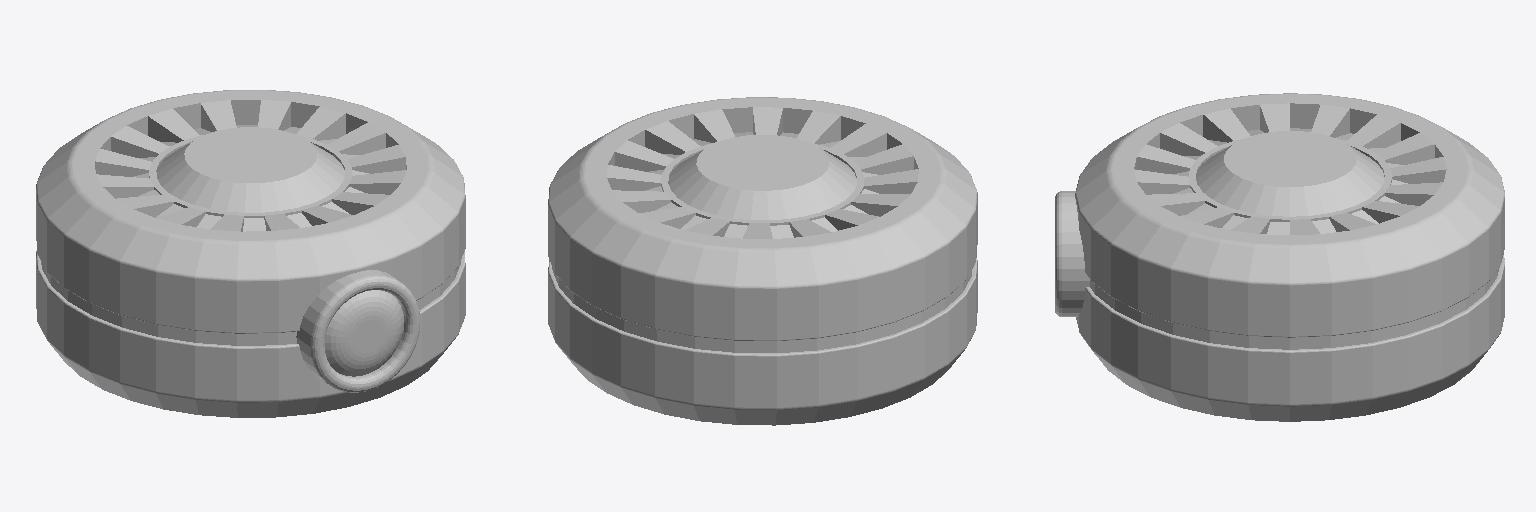
Rendered from RobotCircleNew.obj.
The picture shows the model from 3 angles: view 1: azimuth 30°, elevation 25°; view 2: azimuth 150°, elevation 25°; view 3: azimuth 270°, elevation 25°; orthographic projection.
Visible parts, largest first — view 1: Cylinder.009; view 2: Cylinder.009; view 3: Cylinder.009.
Part boxes in pixels (left/top/right/bottom): Cylinder.009: left=36, top=90, right=465, bottom=417; Cylinder.009: left=548, top=97, right=977, bottom=425; Cylinder.009: left=1055, top=93, right=1504, bottom=421.
Size of the model in its own units: 2 by 0.9948 by 2.1.